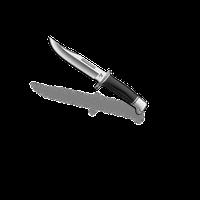knife: (41, 31, 149, 118)
